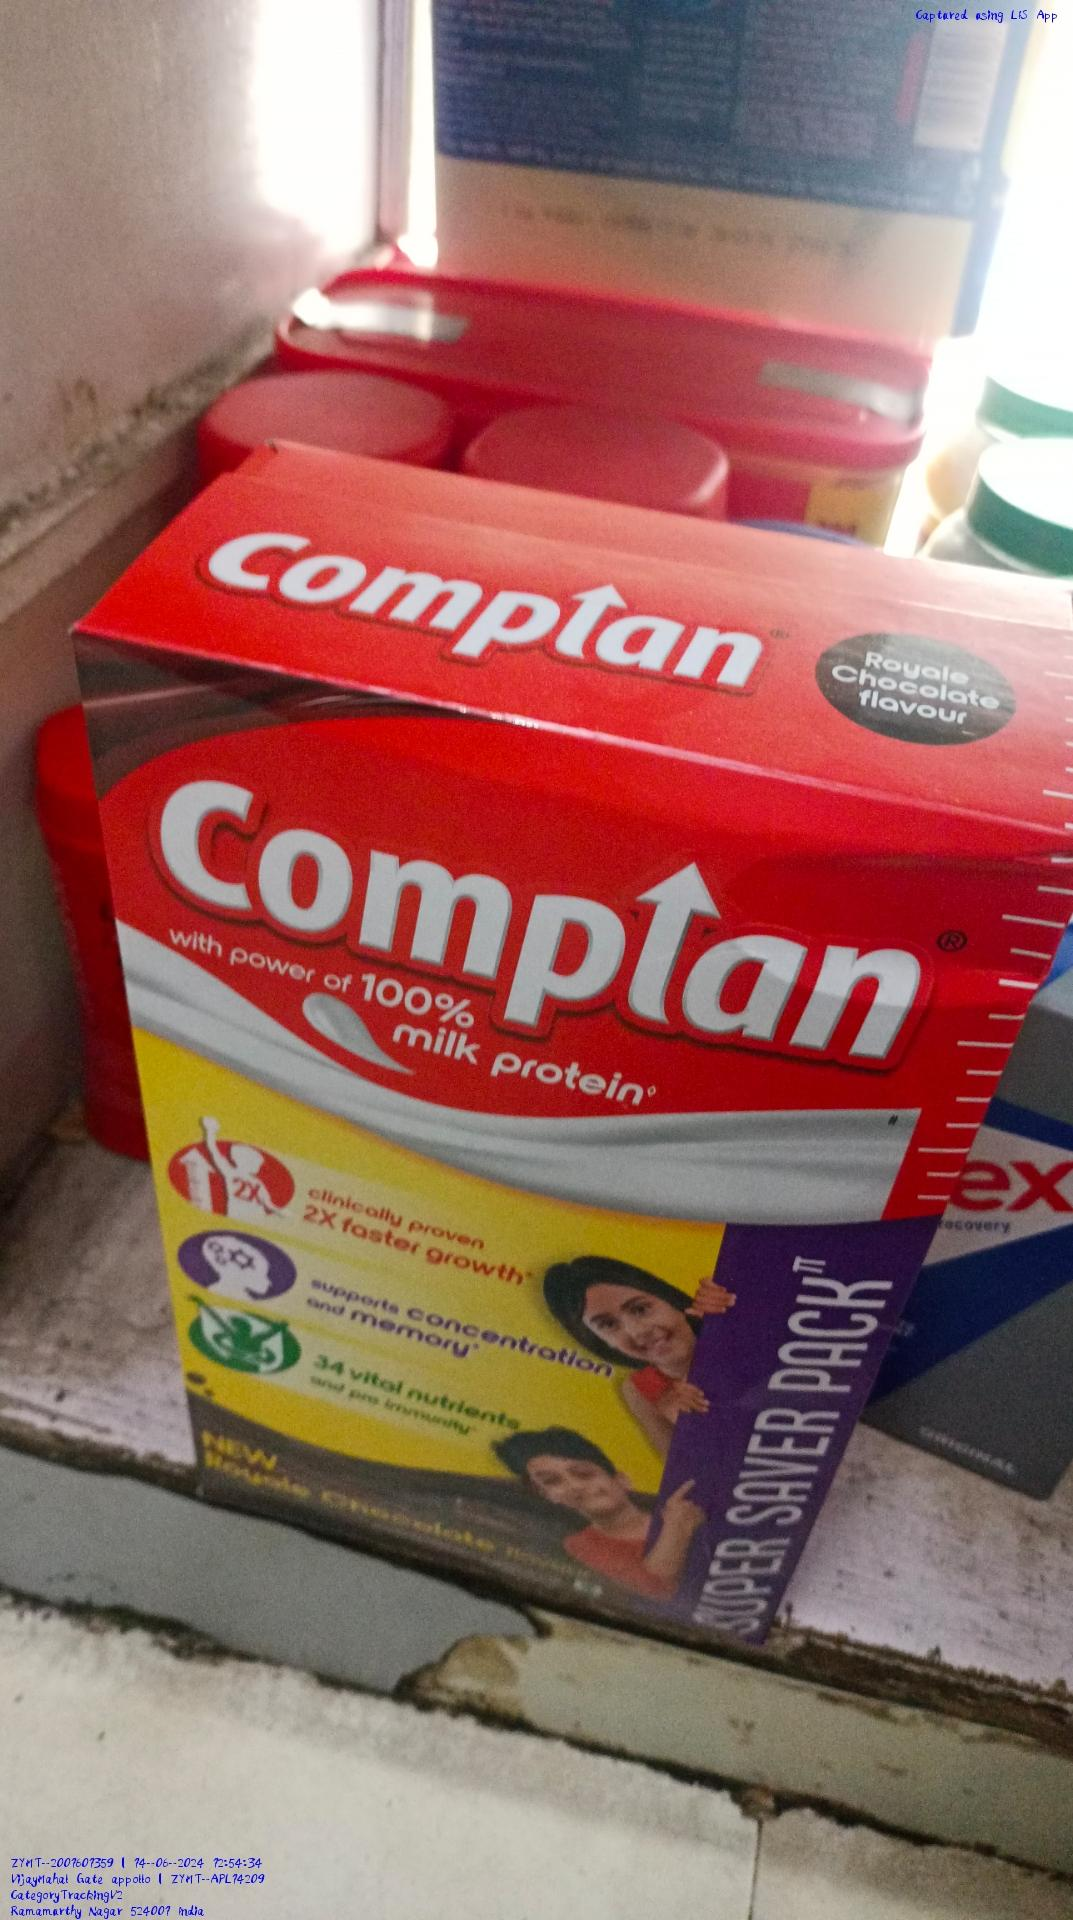COMPLAN_CHOCOLATE_1_KG_PACK: (84, 700, 945, 1644)
